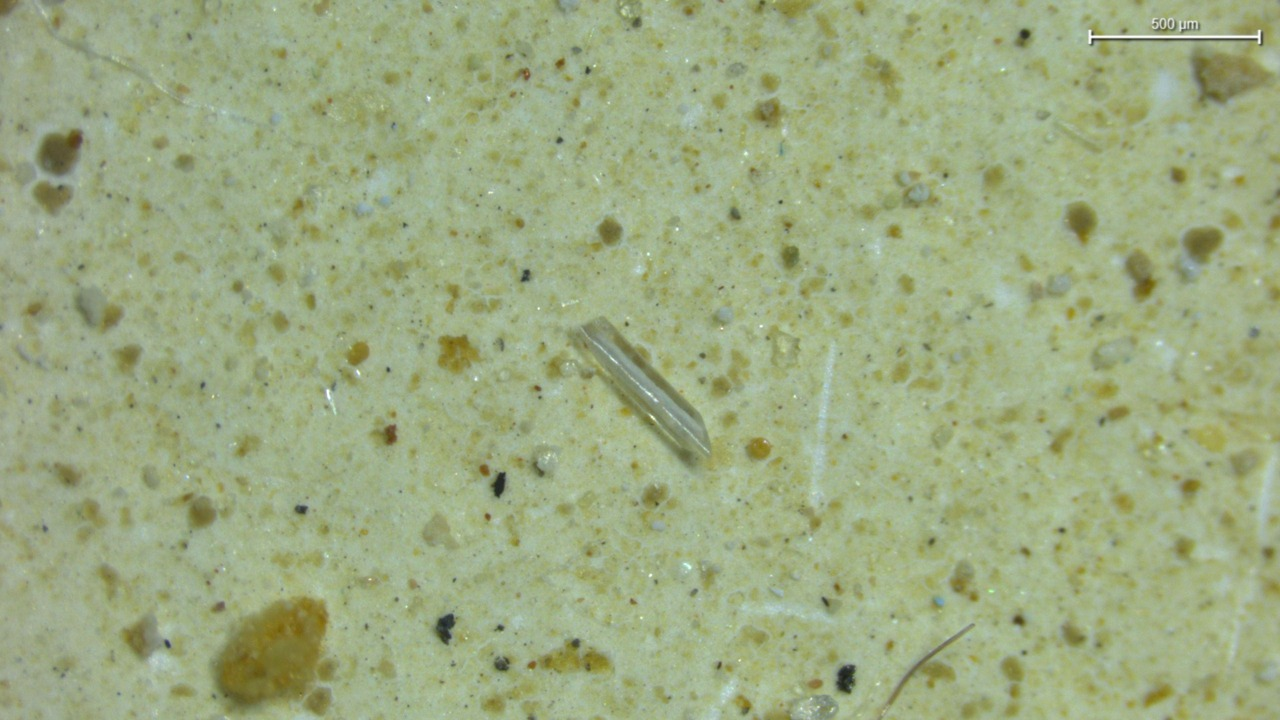microplastic_fragment: (572, 319, 710, 466)
